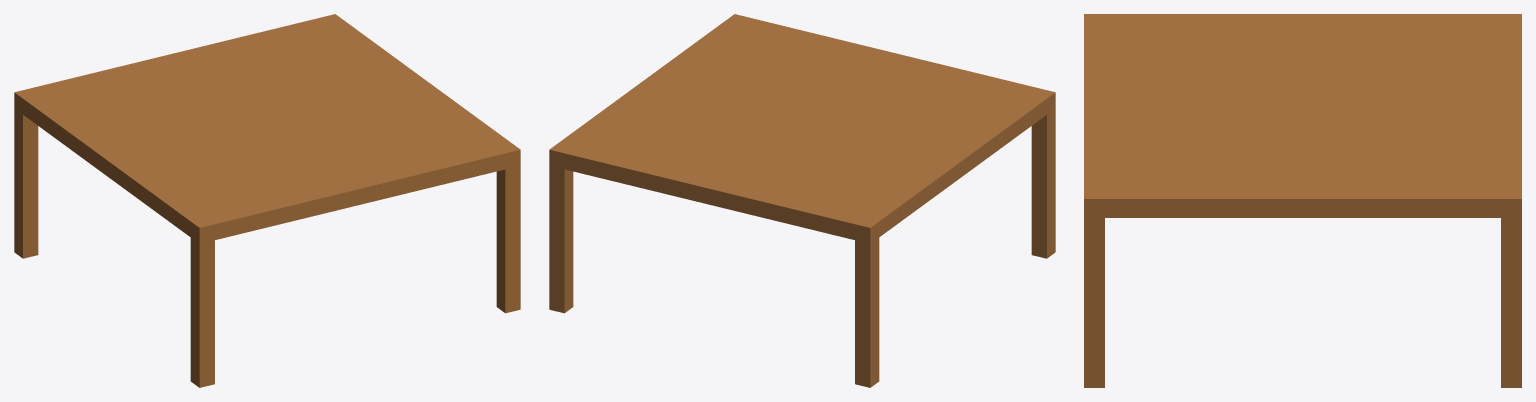
Rendered from Large Table.obj.
3 views of the same model, side by side, from view 1: azimuth 30°, elevation 25°; view 2: azimuth 150°, elevation 25°; view 3: azimuth 270°, elevation 25° (orthographic). The views are drawn at different scales.
Visible parts, largest first — view 1: Large Table; view 2: Large Table; view 3: Large Table.
Part boxes in pixels (<box>): Large Table: <box>14,14,520,387</box>; Large Table: <box>549,14,1055,387</box>; Large Table: <box>1084,14,1521,387</box>.
Bounding box in the file's own units: 21 × 10 × 21.
